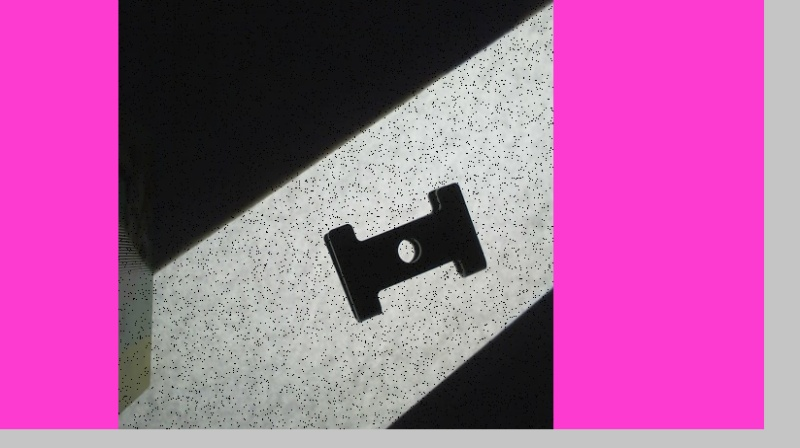O002: (319, 179, 488, 327)
